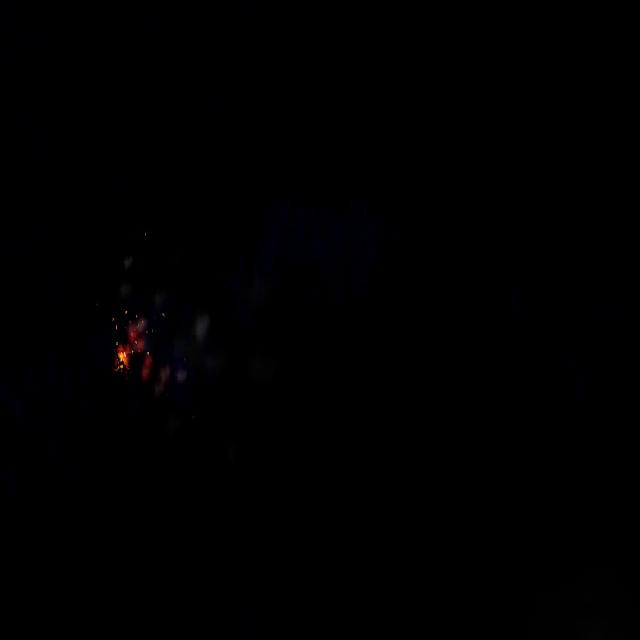fire: (115, 319, 151, 377)
smoke: (144, 309, 220, 396)
